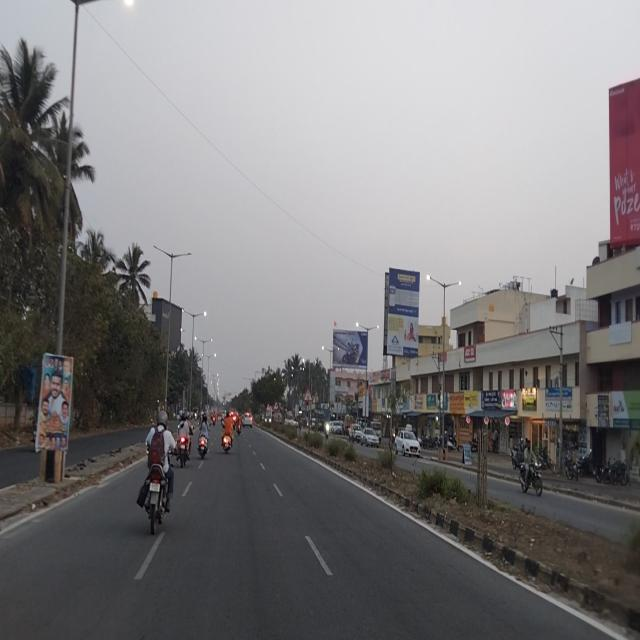bien_cam: (302, 386, 314, 402)
